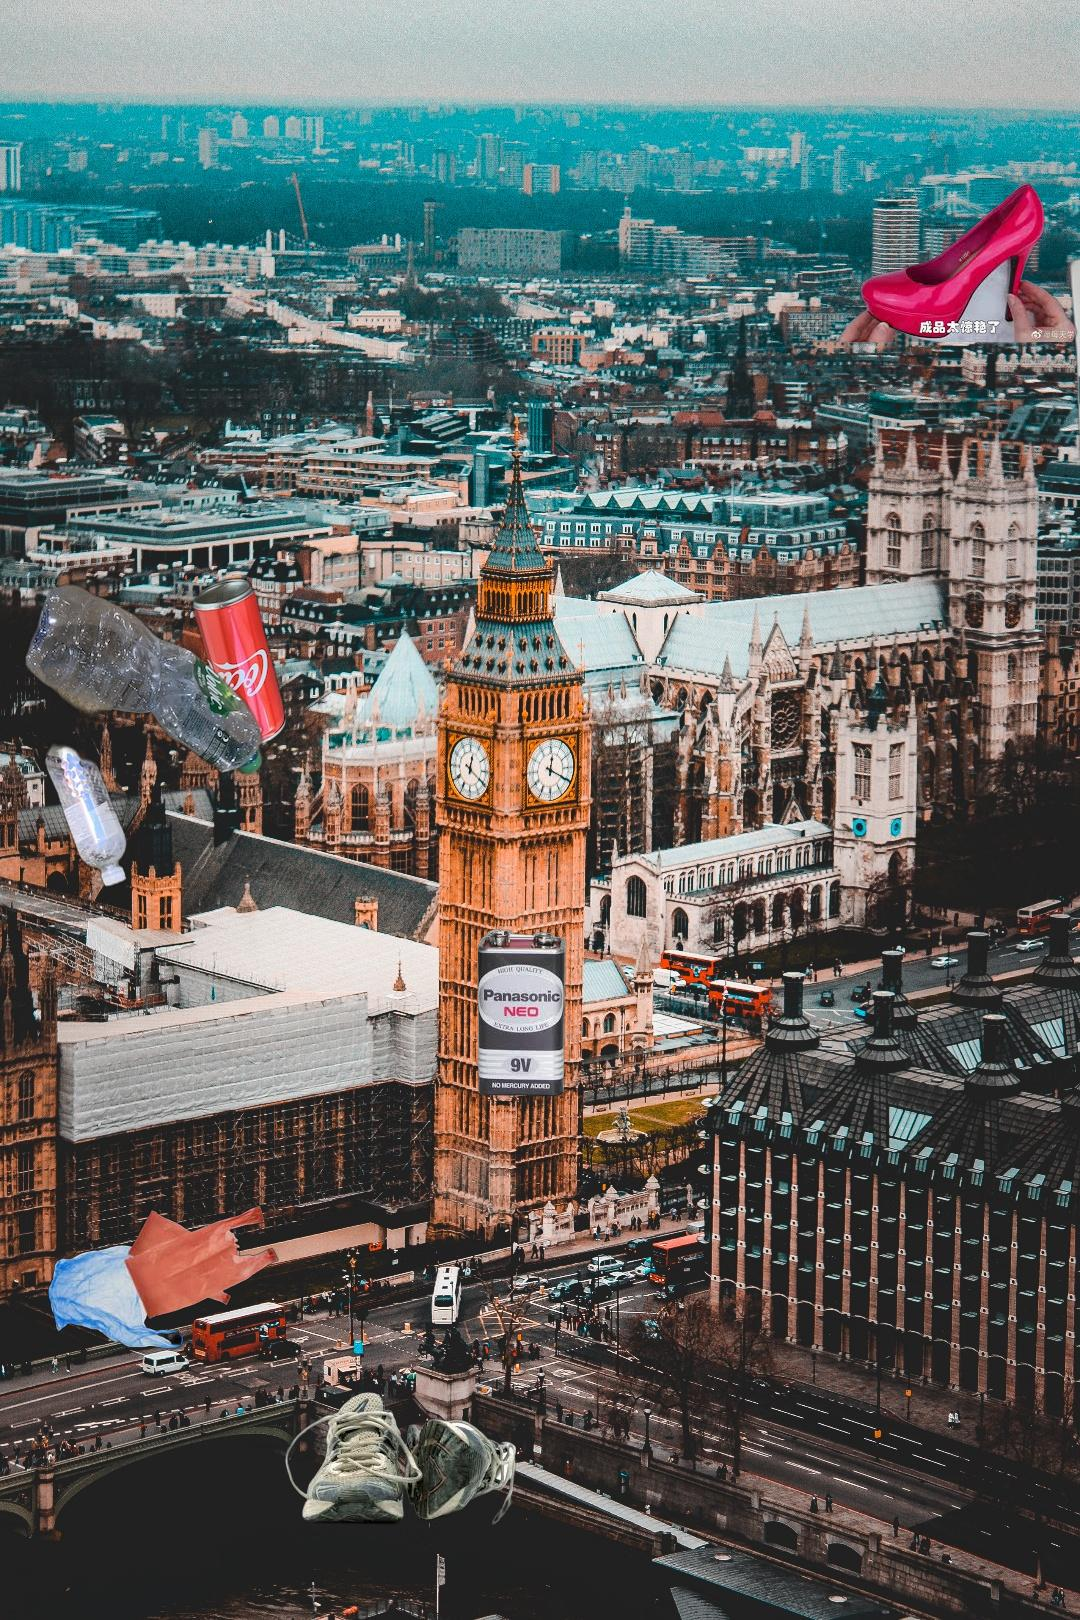battery: (475, 926, 569, 1099)
metal-cans: (189, 572, 291, 752)
paper: (1065, 241, 1080, 466)
plastic-bag: (45, 1202, 280, 1350)
plastic-bottles: (20, 580, 267, 778), (40, 737, 130, 893)
shoes: (835, 181, 1080, 342), (282, 1390, 519, 1528)
